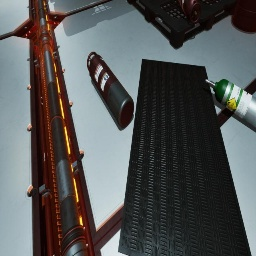0: (205, 79, 256, 128)
NitrogenTank ,: (87, 52, 134, 128), (178, 0, 202, 24)
